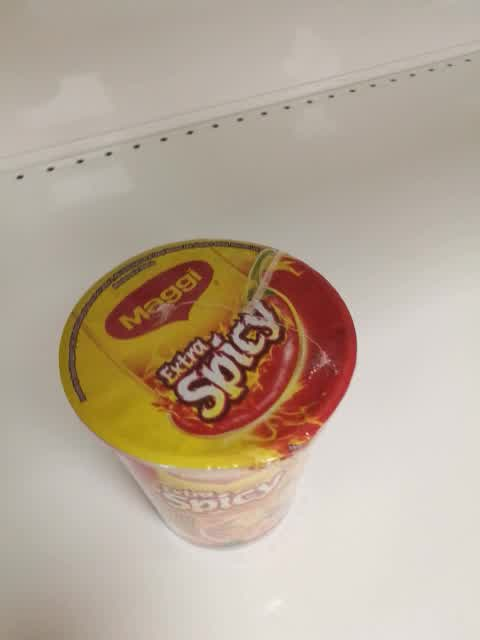maggi: (56, 237, 358, 551)
